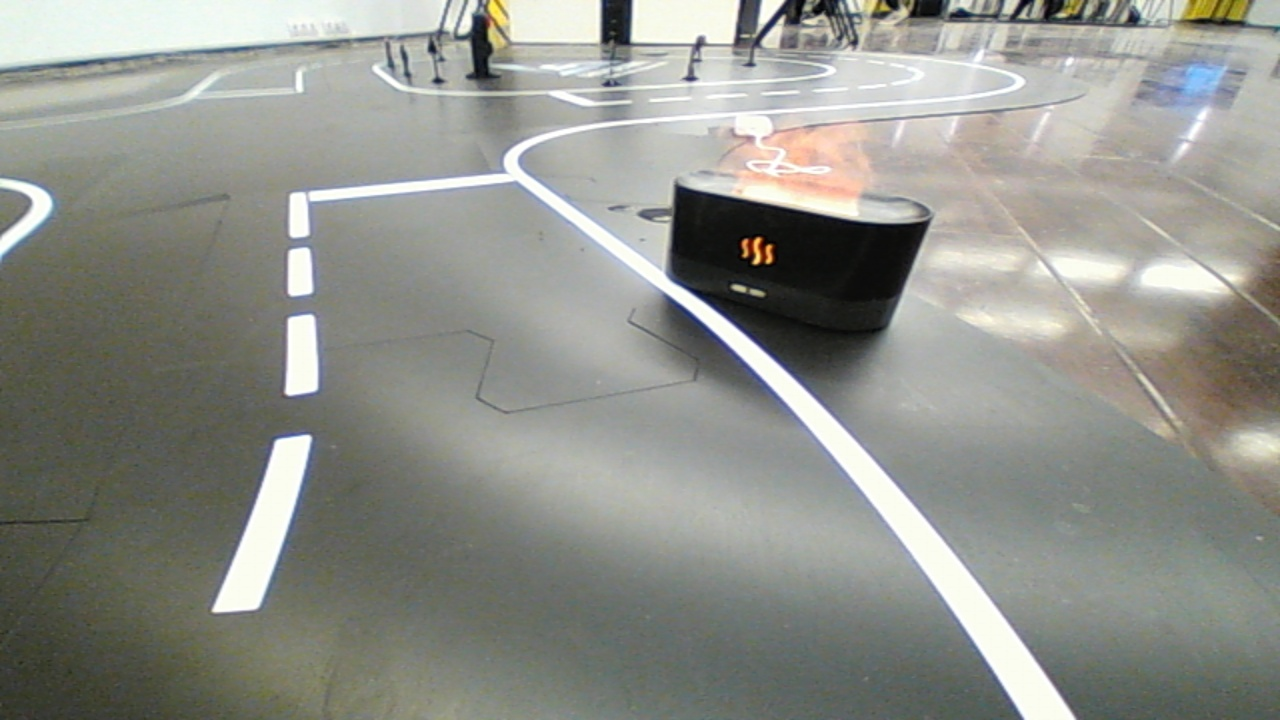Movement prohibition: (660, 143, 947, 353)
